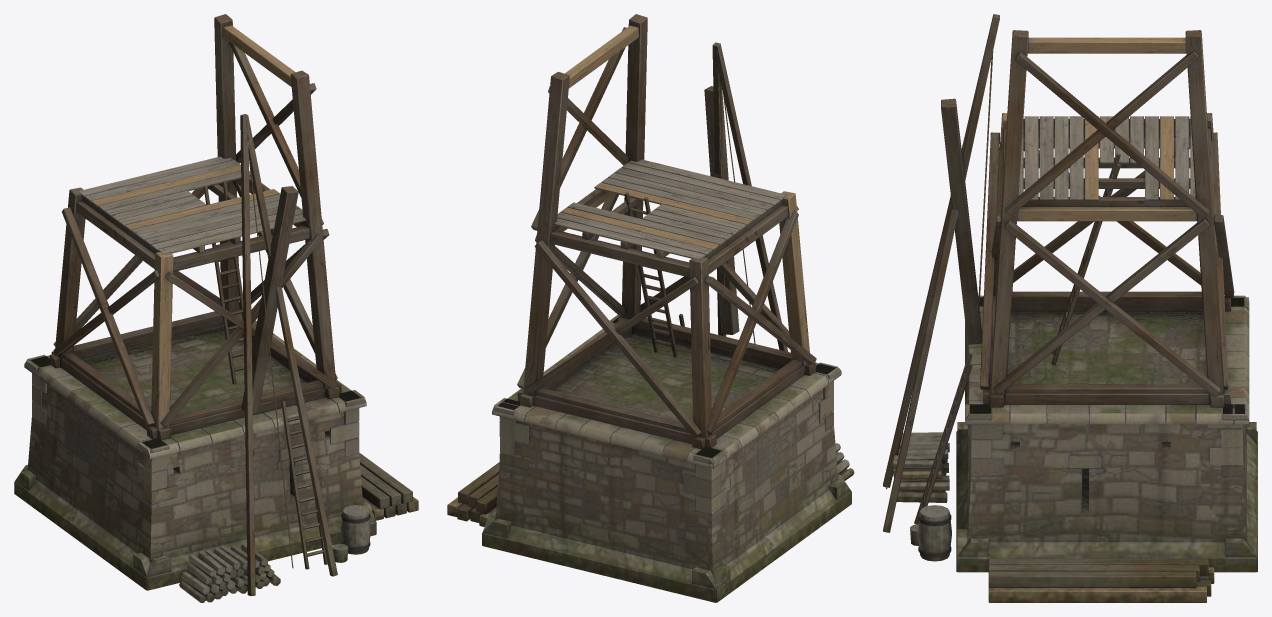
Rendered from watchtower_build2.glb.
3 renders of one model, left to right at view 1: azimuth 30°, elevation 25°; view 2: azimuth 150°, elevation 25°; view 3: azimuth 270°, elevation 25°, orthographic. The views are drawn at different scales.
Visible parts, largest first — view 1: watchtower_build2_LOD0; view 2: watchtower_build2_LOD0; view 3: watchtower_build2_LOD0.
Part boxes in pixels (x1,y1,x2,y2): watchtower_build2_LOD0: (14,14,418,602); watchtower_build2_LOD0: (447,14,854,602); watchtower_build2_LOD0: (883,14,1257,602).
Size of what is drawn, in the model's own units: 6.96 by 10.53 by 6.96.
1 material, 1 textured.
